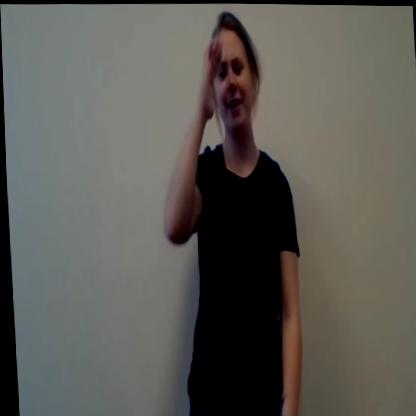Hello: (186, 8, 273, 168)
